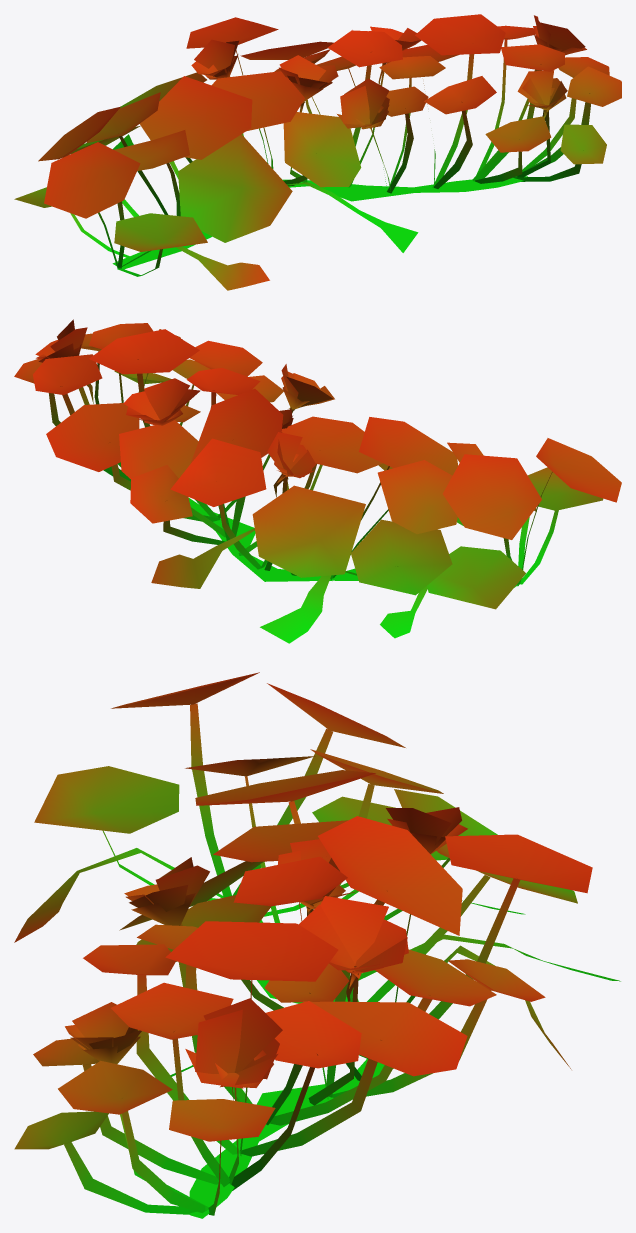
The model's file is Var3_LOD1.fbx.
3 renders of one model, top to bottom at view 1: azimuth 30°, elevation 25°; view 2: azimuth 150°, elevation 25°; view 3: azimuth 270°, elevation 25°, orthographic. The views are drawn at different scales.
Parts seen in each view (by area): view 1: _9c2f_Var3_LOD1; view 2: _9c2f_Var3_LOD1; view 3: _9c2f_Var3_LOD1.
Boxes of the visible parts, x1,y1,x2,y2 form: _9c2f_Var3_LOD1: [14, 14, 621, 290]; _9c2f_Var3_LOD1: [14, 319, 621, 643]; _9c2f_Var3_LOD1: [14, 672, 620, 1218].
Bounding box in the file's own units: 59.78 × 16.32 × 34.08.
